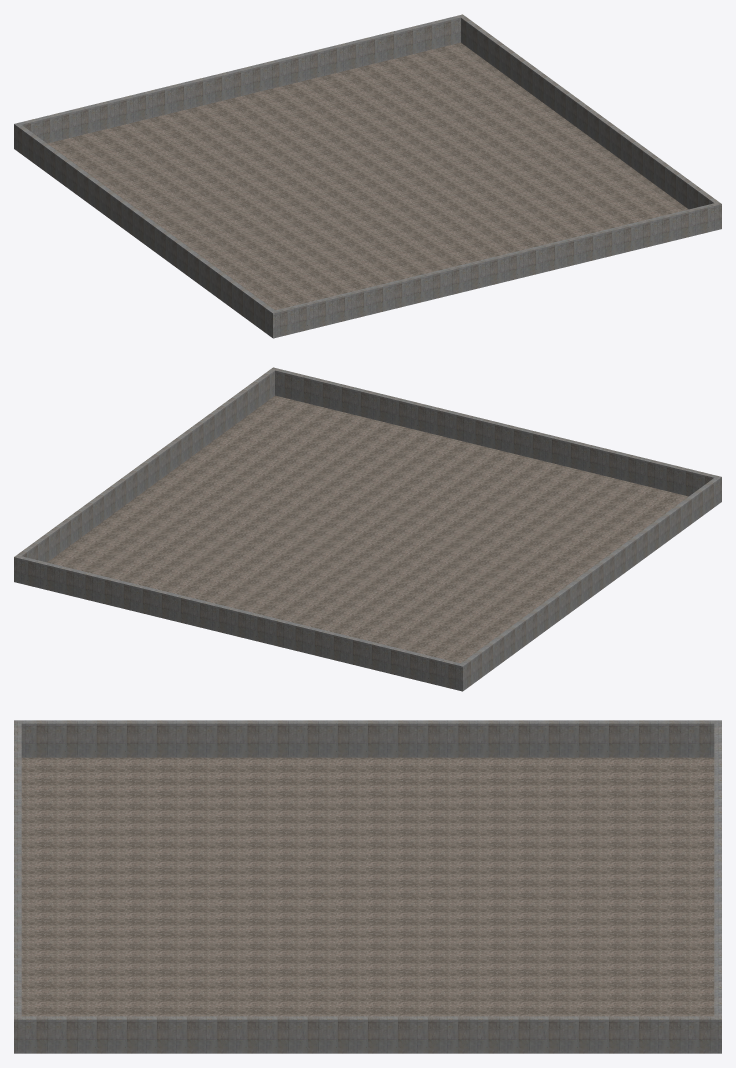
Rendered from compile.glb.
3 views of the same model, one above another, from view 1: azimuth 30°, elevation 25°; view 2: azimuth 150°, elevation 25°; view 3: azimuth 270°, elevation 25° (orthographic). The views are drawn at different scales.
Visible parts, largest first — view 1: compile; view 2: compile; view 3: compile.
Boxes of the visible parts, x1,y1,x2,y2 form: compile: [14, 14, 721, 338]; compile: [14, 367, 721, 691]; compile: [14, 720, 721, 1053].
Size of the model in its own units: 241 by 12.8 by 241.
2 materials, 2 textured.
